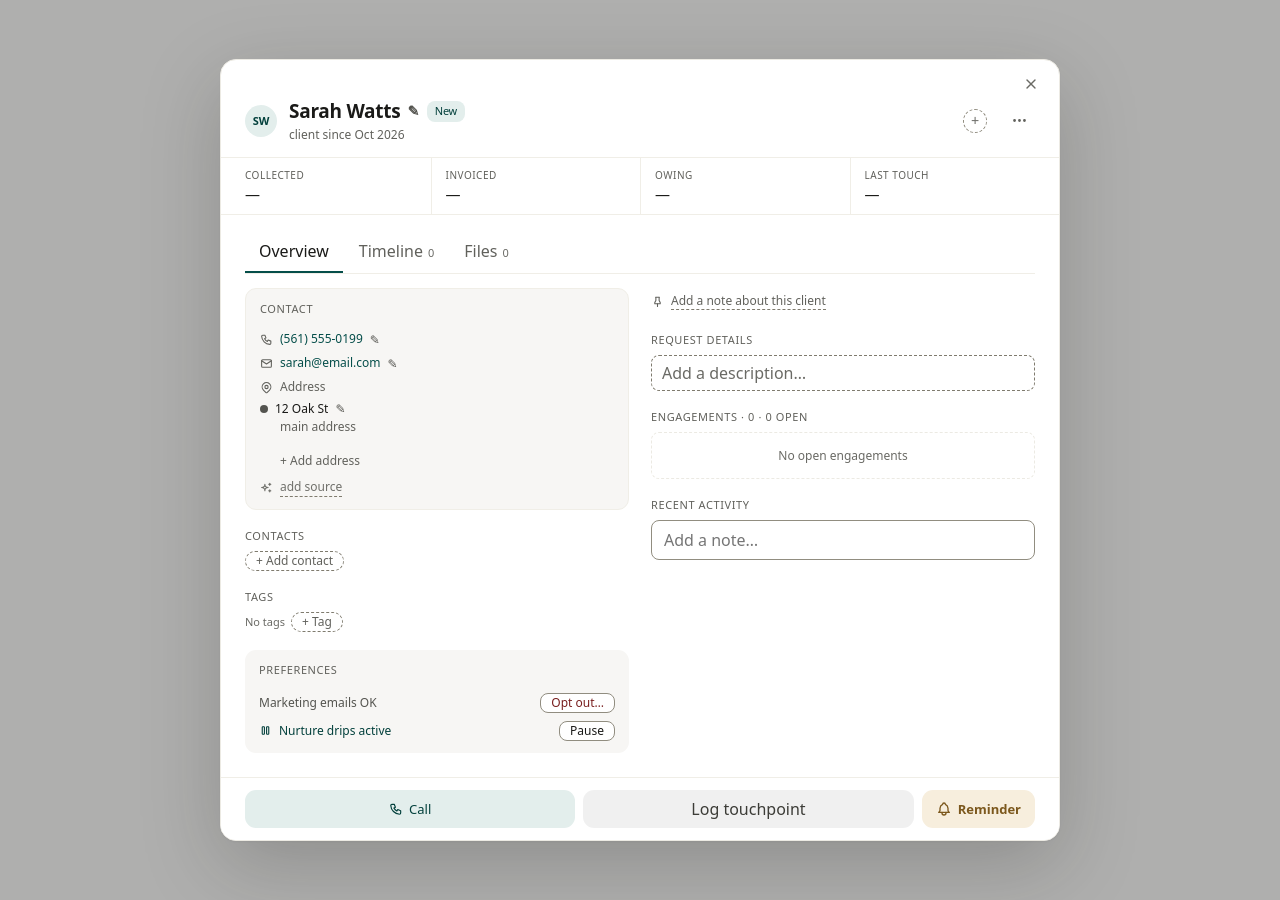
it: four actions, grouped and explained › the card menu uses the SAME words
Click the button named "More".
click(1019, 121)  # box [1003, 105, 1035, 137]
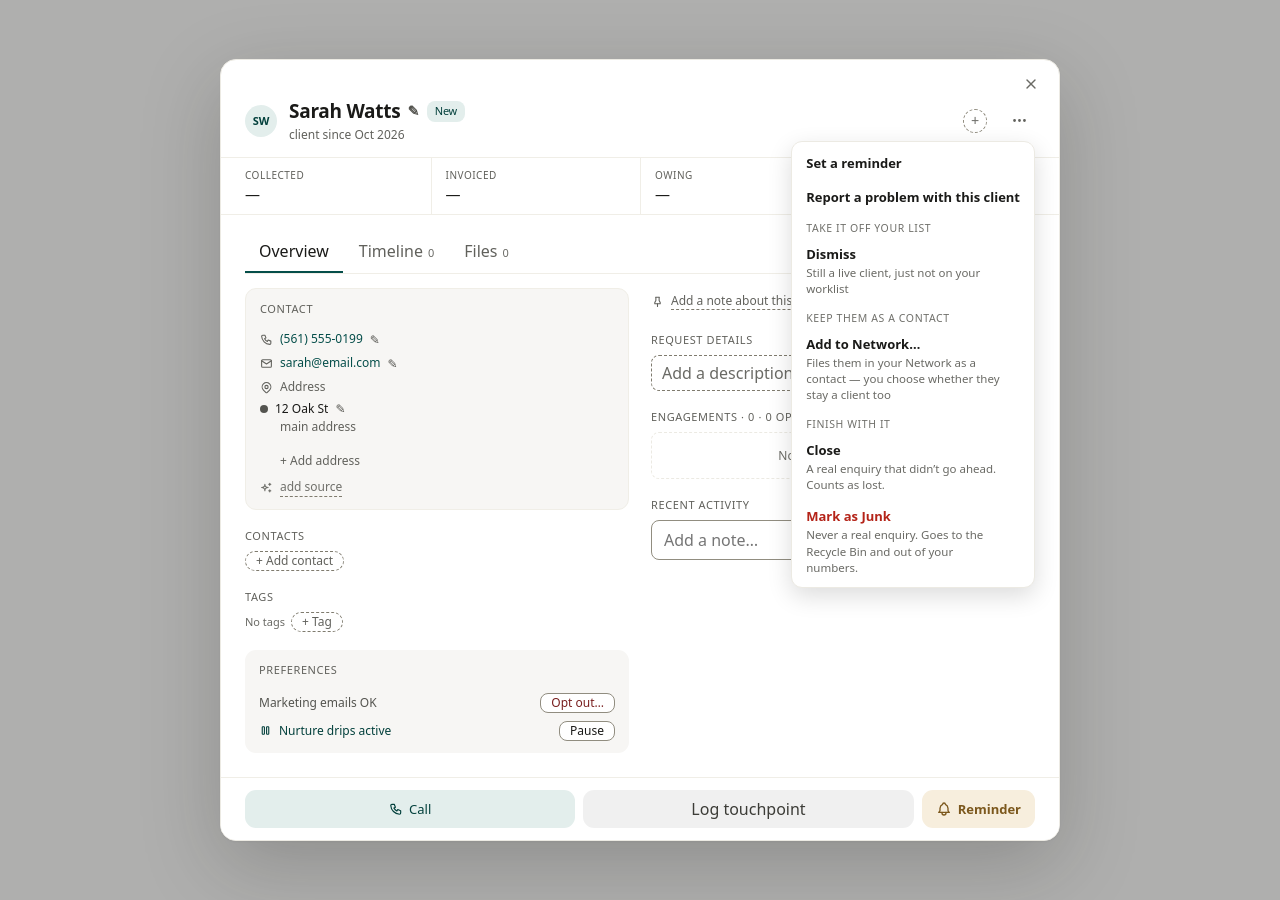
Check: the text "A real enquiry that didn’t go ahead. Counts as lost." is shown, box [806, 461, 1004, 494]
Check: the text "Never a real enquiry. Goes to the Recycle Bin and out of your numbers." is shown, box [806, 528, 1004, 576]
Check: the text "Finish with it" is shown, box [806, 417, 890, 431]
